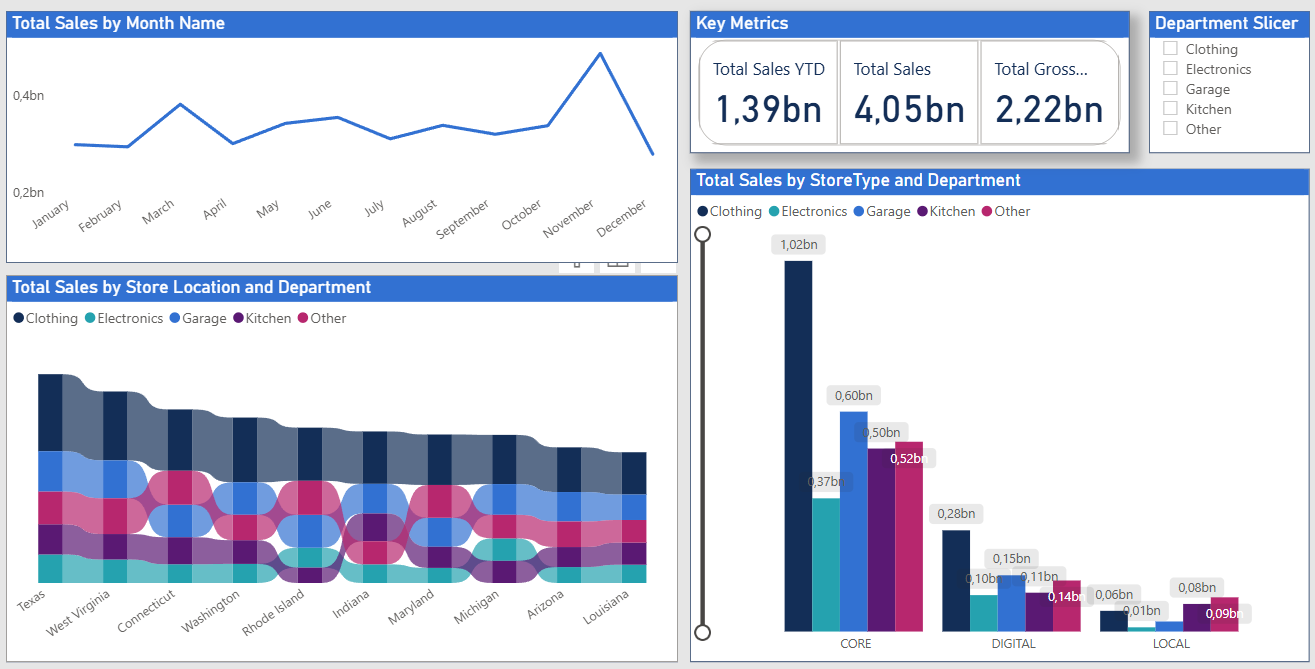

Layout of this report page (visuals, bound fields, positions):
{"tool":"powerbi","page":{"name":"Sales","canvas":[1280,720],"ordinal":0},"visuals":[{"type":"group","id":"g1","title":"Group 1","box":[0,0,1280,64],"z":0},{"type":"clusteredColumnChart","fields":{"Category":["Store Details New.StoreType"],"Y":["Retail Sales New.Total Sales"],"Series":["Categories.Department"]},"box":[671.7,233.3,590,470],"z":1000},{"type":"ribbonChart","fields":{"Category":["Store Details New.Store Location"],"Series":["Categories.Department"],"Y":["Retail Sales New.Total Sales"]},"box":[20,335,640,368.3],"z":2000},{"type":"cardVisual","title":"Key Metrics","fields":{"Data":["Retail Sales New.Total Sales YTD","Retail Sales New.Total Sales","Retail Sales New.Total Gross Margin"]},"box":[671.7,83.3,418.3,135],"z":3000},{"type":"lineChart","fields":{"Category":["Date New.Month Name"],"Y":["Retail Sales New.Total Sales"]},"box":[20,83.3,640,240],"z":4000},{"type":"slicer","title":"Department Slicer","fields":{"Values":["Categories.Department"]},"box":[1108.3,83.3,153.3,135],"z":5000},{"type":"shape","box":[0,0,1280,64],"z":14000,"group":"g1"},{"type":"textbox","box":[0,0,1280,64],"z":15000,"group":"g1"}]}

Visuals, with their boxes on the page's 1280x720 design canvas (x1, y1, x2, y2). These are canvas units, not pixel positions in the 1315x669 screenshot, which may show the page scaled, cropped or inside an application window:
"Group 1" group: [x1=0, y1=0, x2=1280, y2=64]
clusteredColumnChart - Store Details New.StoreType x Retail Sales New.Total Sales: [x1=672, y1=233, x2=1262, y2=703]
ribbonChart - Store Details New.Store Location x Categories.Department: [x1=20, y1=335, x2=660, y2=703]
"Key Metrics" cardVisual: [x1=672, y1=83, x2=1090, y2=218]
lineChart - Date New.Month Name x Retail Sales New.Total Sales: [x1=20, y1=83, x2=660, y2=323]
"Department Slicer" slicer: [x1=1108, y1=83, x2=1262, y2=218]
shape: [x1=0, y1=0, x2=1280, y2=64]
textbox: [x1=0, y1=0, x2=1280, y2=64]
